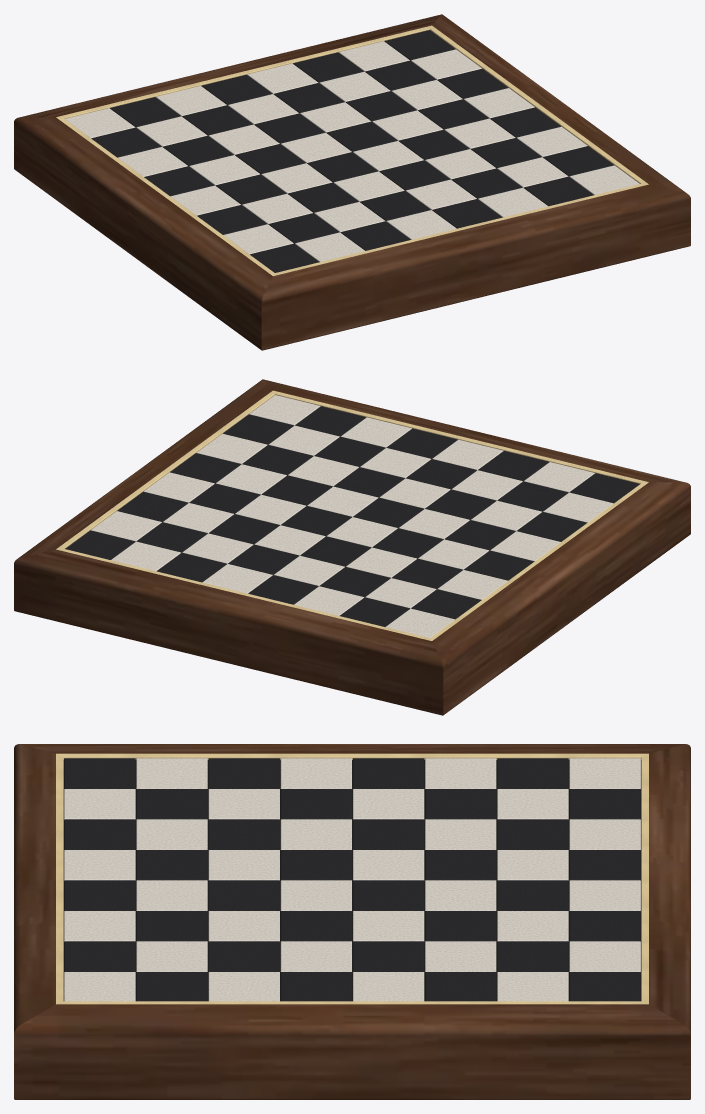
The model's file is classie_chessboard.glb.
The picture shows the model from 3 angles, top to bottom: view 1: azimuth 30°, elevation 25°; view 2: azimuth 150°, elevation 25°; view 3: azimuth 270°, elevation 25°; orthographic projection. The views are drawn at different scales.
Visible parts, largest first — view 1: Walnut_Frame, Squares_Dark, Squares_Light, Brass_Inlay; view 2: Walnut_Frame, Squares_Light, Squares_Dark, Brass_Inlay; view 3: Walnut_Frame, Squares_Dark, Squares_Light, Brass_Inlay, Joint_Bed.
Boxes of the visible parts, x1=… form: Walnut_Frame: x1=14, y1=14, x2=690, y2=350; Squares_Dark: x1=91, y1=30, x2=613, y2=272; Squares_Light: x1=65, y1=41, x2=639, y2=261; Brass_Inlay: x1=56, y1=25, x2=648, y2=275; Walnut_Frame: x1=14, y1=379, x2=690, y2=715; Squares_Light: x1=91, y1=395, x2=613, y2=637; Squares_Dark: x1=65, y1=406, x2=639, y2=626; Brass_Inlay: x1=56, y1=390, x2=648, y2=640; Walnut_Frame: x1=14, y1=744, x2=690, y2=1099; Squares_Dark: x1=64, y1=758, x2=640, y2=1001; Squares_Light: x1=64, y1=758, x2=640, y2=1001; Brass_Inlay: x1=56, y1=753, x2=648, y2=1004; Joint_Bed: x1=63, y1=760, x2=641, y2=1001.
Size of the model in its own units: 0.469 by 0.06 by 0.469.
5 materials, 4 textured.
